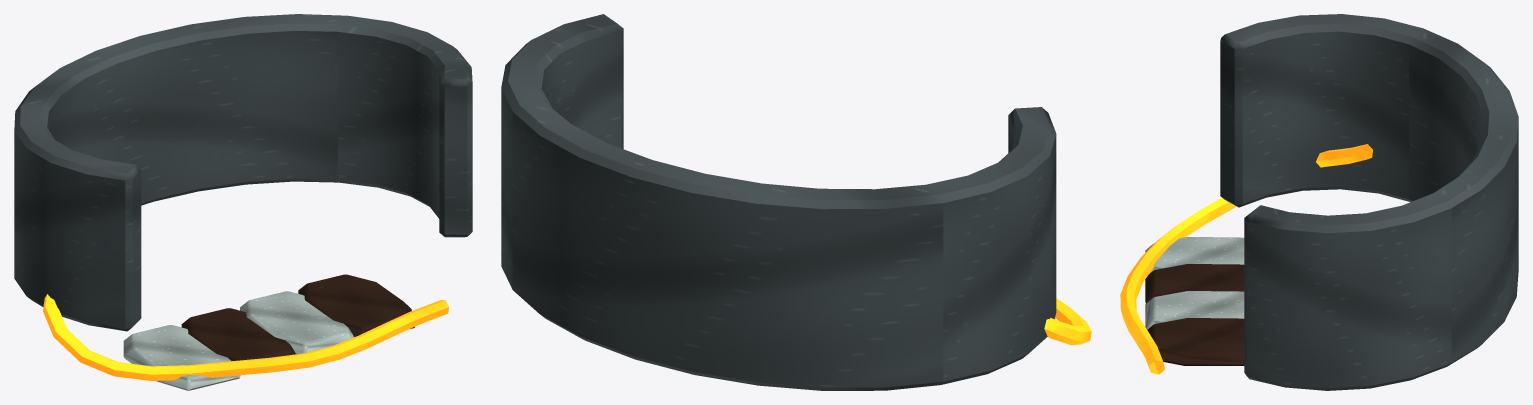
File: Collapsed_Hull_V3.fbx
3 views of the same model, side by side, from view 1: azimuth 30°, elevation 25°; view 2: azimuth 150°, elevation 25°; view 3: azimuth 270°, elevation 25° (orthographic). The views are drawn at different scales.
Parts seen in each view (by area): view 1: Collapsed_Hull_V3; view 2: Collapsed_Hull_V3; view 3: Collapsed_Hull_V3.
Boxes of the visible parts, x1,y1,x2,y2 form: Collapsed_Hull_V3: (14, 14, 472, 390); Collapsed_Hull_V3: (501, 14, 1091, 390); Collapsed_Hull_V3: (1120, 14, 1518, 390).
Size of the model in its own units: 3.11 by 1.35 by 2.38.
